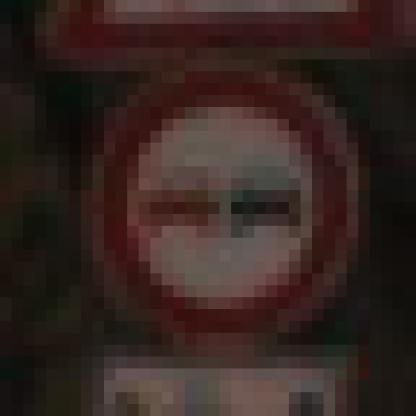No Overtaking: (71, 72, 360, 346)
